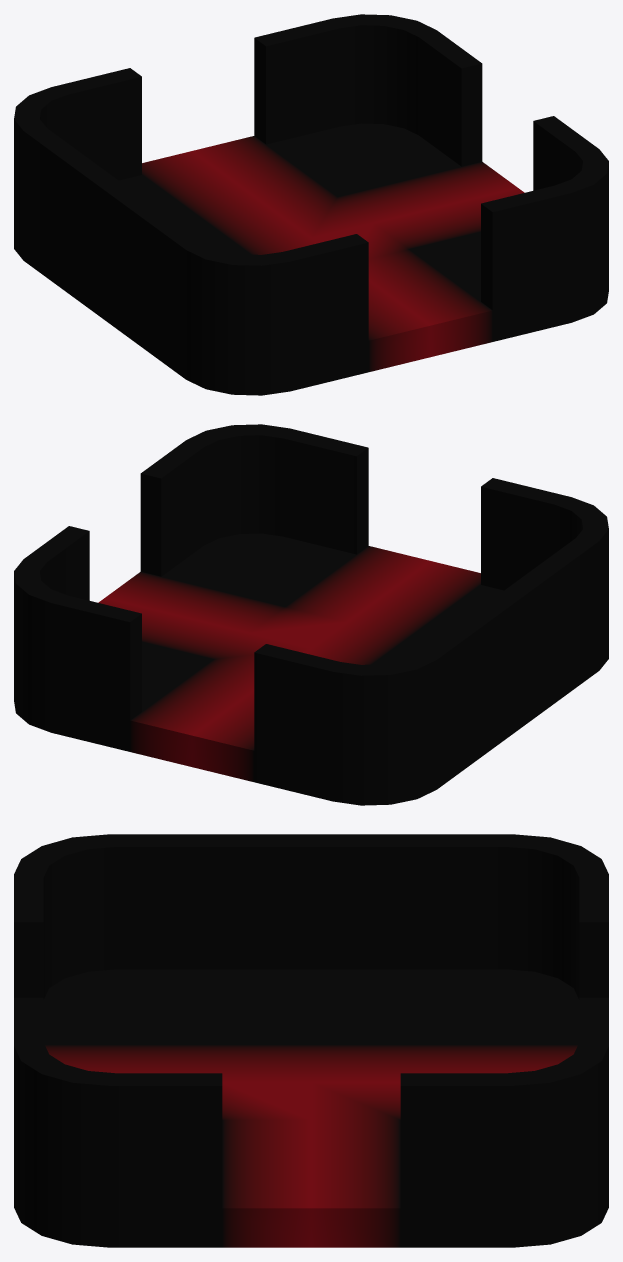
Rendered from Tile_T.fbx.
3 renders of one model, top to bottom at view 1: azimuth 30°, elevation 25°; view 2: azimuth 150°, elevation 25°; view 3: azimuth 270°, elevation 25°, orthographic. The views are drawn at different scales.
Parts seen in each view (by area): view 1: T_room; view 2: T_room; view 3: T_room.
Part boxes in pixels (x1,y1,x2,y2): T_room: [14, 14, 608, 395]; T_room: [14, 424, 608, 805]; T_room: [14, 834, 608, 1247].
Bounding box in the file's own units: 100 × 30 × 100.
